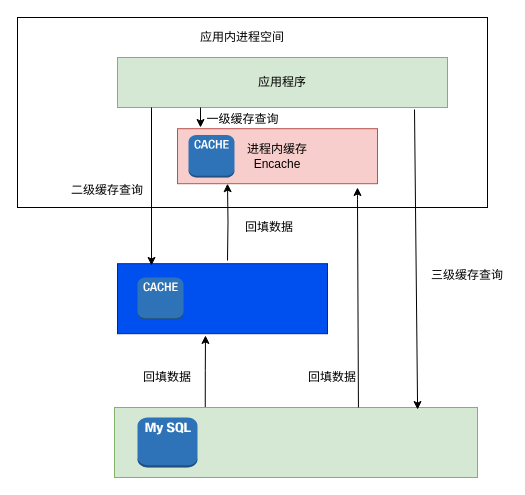
The diagram is 525 pixels wide and 495 high, and some of its shapes have lost their labels. The box of each missing label's shape, as (x1, y1, x2, y2) in pixels:
分布式缓存 Redis: (116, 263, 328, 334)
数据源: (114, 406, 478, 478)
